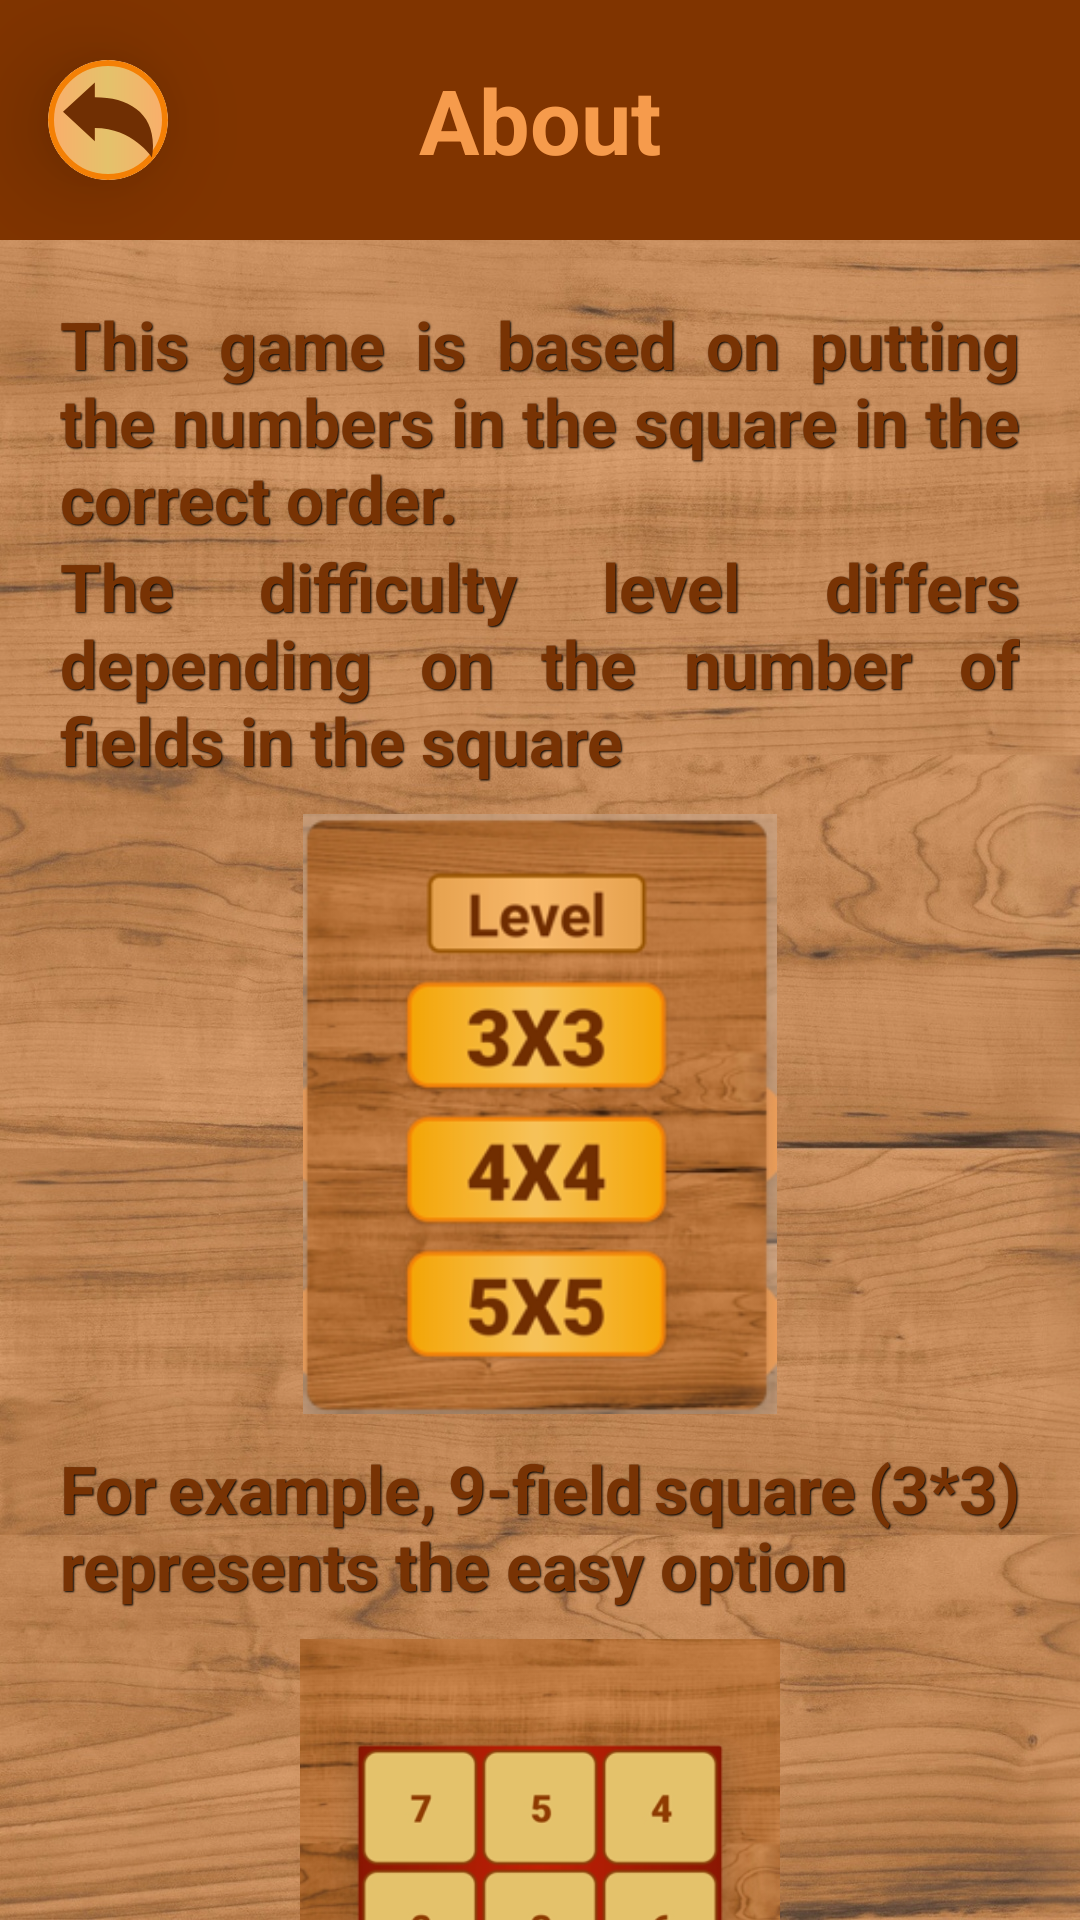

Icons on this 1080 x 1920 Android screen, each with its box as {"left": x1, "top": y1, "right": x2, "bottom": y2}:
back reply: {"left": 48, "top": 60, "right": 168, "bottom": 180}
